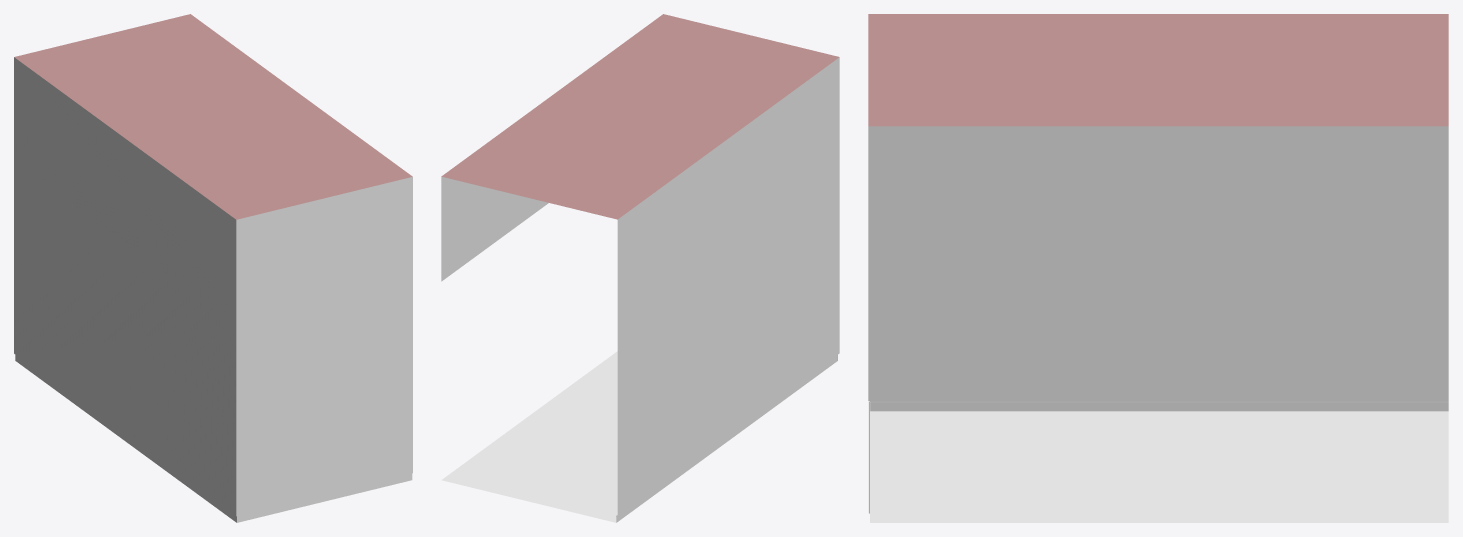
The model's file is TR_SectionB_01.fbx.
3 views of the same model, side by side, from view 1: azimuth 30°, elevation 25°; view 2: azimuth 150°, elevation 25°; view 3: azimuth 270°, elevation 25° (orthographic). The views are drawn at different scales.
Visible parts, largest first — view 1: TR_SectionB_01_LOD0; view 2: TR_SectionB_01_LOD0; view 3: TR_SectionB_01_LOD0.
Part boxes in pixels (x1,y1,x2,y2): TR_SectionB_01_LOD0: (14, 14, 412, 522); TR_SectionB_01_LOD0: (441, 14, 839, 522); TR_SectionB_01_LOD0: (868, 14, 1448, 522).
Size of the model in its own units: 300 by 493 by 654.
